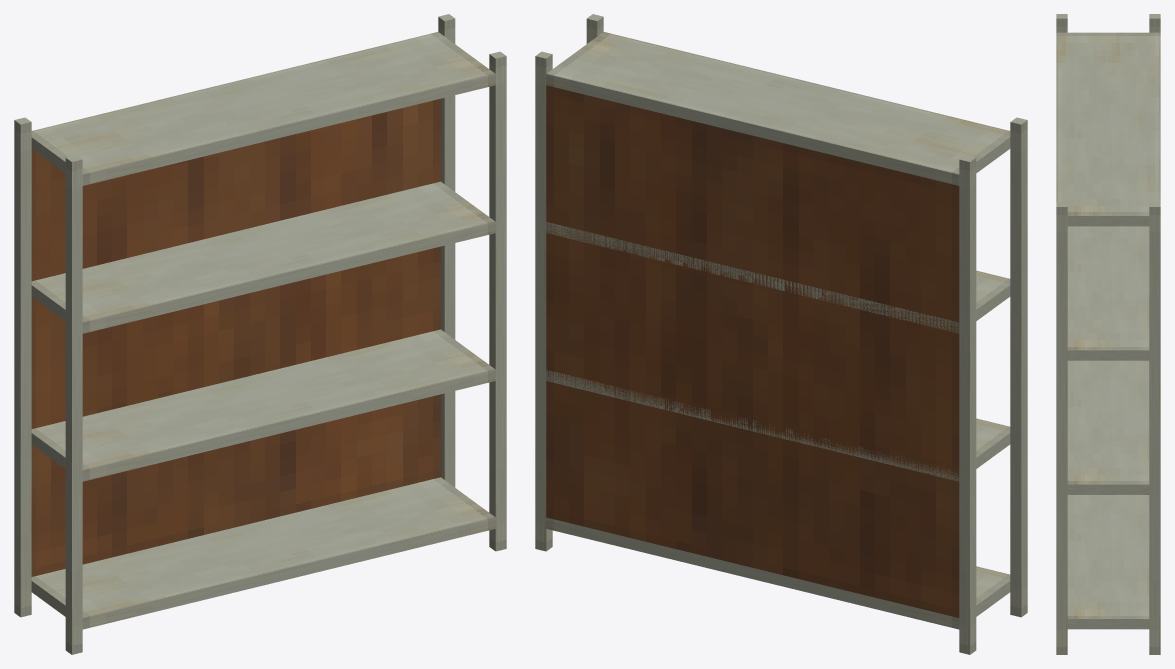
The model's file is shop_shelves.obj.
3 views of the same model, side by side, from view 1: azimuth 30°, elevation 25°; view 2: azimuth 150°, elevation 25°; view 3: azimuth 270°, elevation 25° (orthographic). The views are drawn at different scales.
Size of the model in its own units: 2.4 by 2.6 by 0.55.
